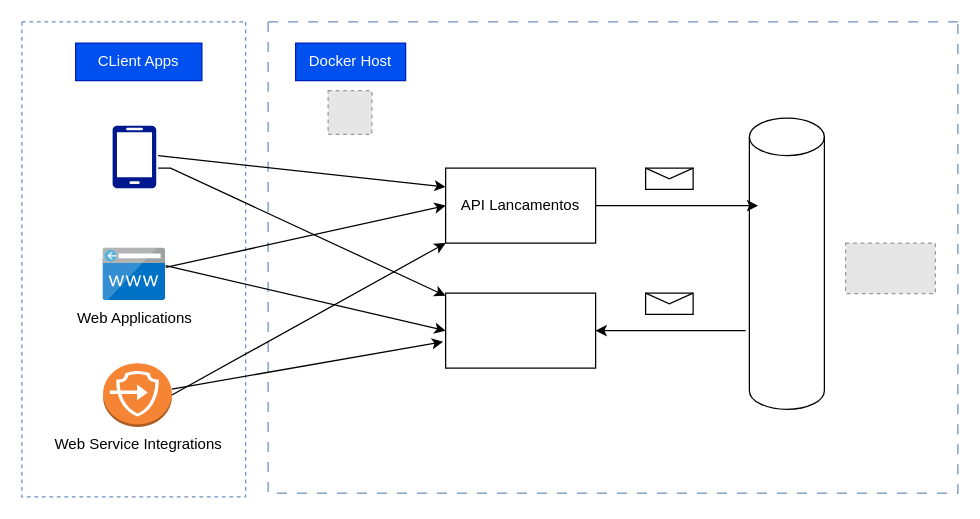
Image size: 980x519. Some labels were removed from this diagram. Grey dashed boxes stand in for pictures. Here are the shapes that lost their labels. From the top down, the centre of each, then its label:
[134,156]: Mobile Applications
[786,263]: BUS
[520,330]: API Relatorios
